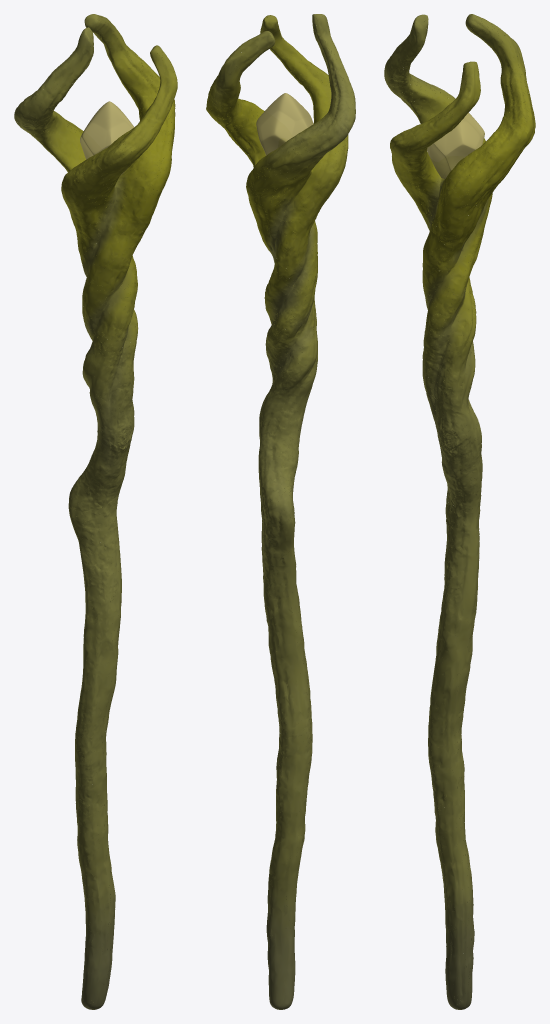
File: staff-transformed.glb
The picture shows the model from 3 angles, left to right: view 1: azimuth 30°, elevation 25°; view 2: azimuth 150°, elevation 25°; view 3: azimuth 330°, elevation 25°; orthographic projection.
Parts seen in each view (by area): view 1: Wizard_Staff3_Wizard_Staff3_0, Wizard_Staff2_Wizard_Staff2_0; view 2: Wizard_Staff3_Wizard_Staff3_0, Wizard_Staff2_Wizard_Staff2_0; view 3: Wizard_Staff3_Wizard_Staff3_0, Wizard_Staff2_Wizard_Staff2_0.
Boxes of the visible parts, x1,y1,x2,y2 form: Wizard_Staff3_Wizard_Staff3_0: (14,14,177,1009); Wizard_Staff2_Wizard_Staff2_0: (80,101,134,182); Wizard_Staff3_Wizard_Staff3_0: (206,14,355,1009); Wizard_Staff2_Wizard_Staff2_0: (256,93,313,178); Wizard_Staff3_Wizard_Staff3_0: (384,14,535,1009); Wizard_Staff2_Wizard_Staff2_0: (427,112,484,187).
Bounding box in the file's own units: 0.2482 × 1.59 × 0.2023.
